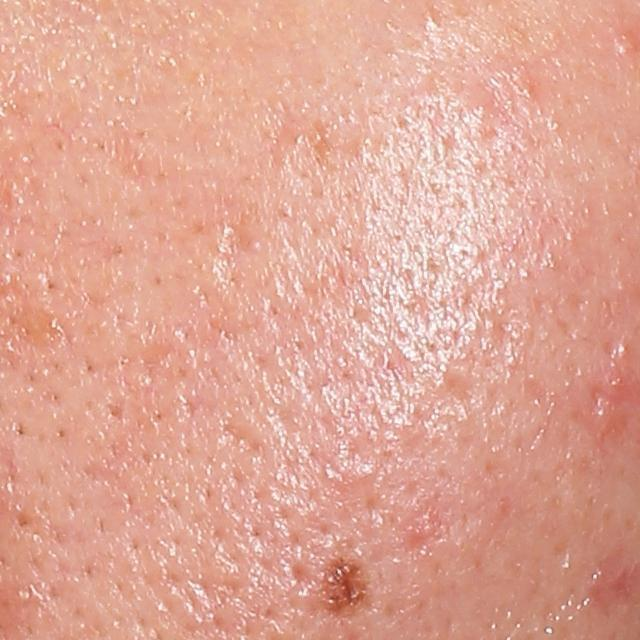atrophic_scar: (212, 214, 256, 295), (222, 409, 273, 462)
nevus: (318, 552, 380, 631)
papule: (611, 31, 639, 57)
